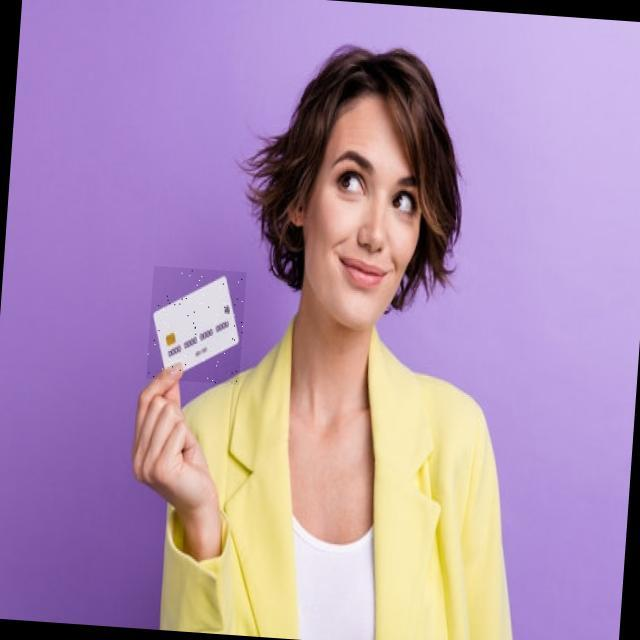payment_card: (148, 266, 244, 378)
